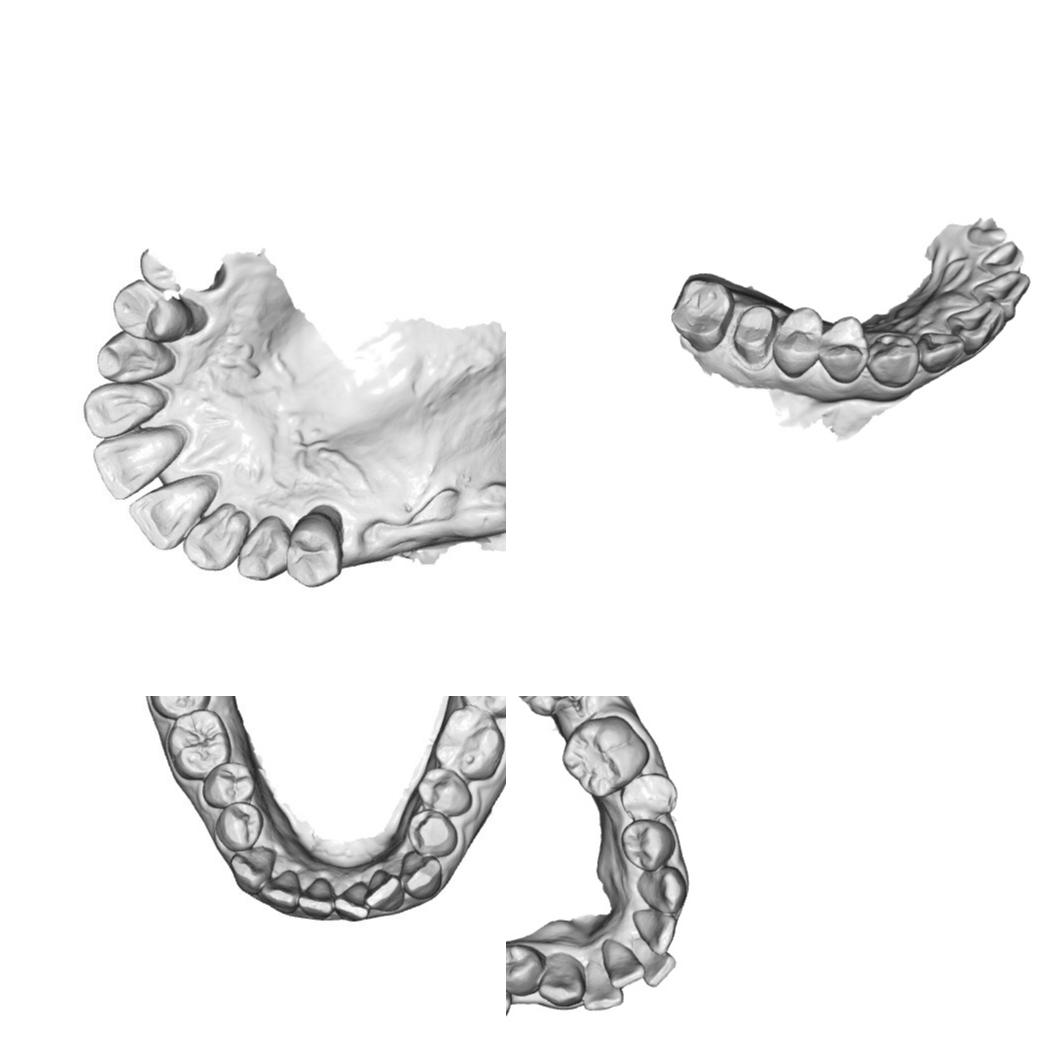canine: (97, 330, 172, 382), (239, 512, 293, 584), (866, 332, 920, 388), (537, 951, 586, 1008), (635, 865, 689, 914), (228, 848, 279, 891), (403, 855, 443, 898)
crown: (730, 302, 778, 368)
incisor: (92, 430, 179, 494), (176, 500, 248, 574), (135, 476, 207, 544), (84, 382, 165, 433), (945, 300, 1006, 354), (970, 270, 1030, 323), (600, 938, 647, 990), (631, 935, 676, 987), (632, 907, 678, 956), (582, 959, 624, 1012), (916, 332, 965, 374), (978, 240, 1024, 276), (366, 871, 402, 910), (263, 869, 300, 905), (302, 875, 336, 911), (335, 885, 366, 917)
molar: (561, 714, 650, 798), (436, 704, 503, 782), (667, 277, 734, 354), (169, 712, 228, 776), (506, 696, 593, 717), (145, 696, 208, 716)
premolar: (287, 506, 345, 592), (115, 280, 195, 342), (771, 306, 823, 379), (818, 314, 870, 384), (619, 818, 676, 872), (619, 772, 679, 822), (417, 767, 474, 814), (208, 758, 254, 807), (506, 944, 545, 997), (408, 814, 458, 855), (216, 802, 261, 846)
